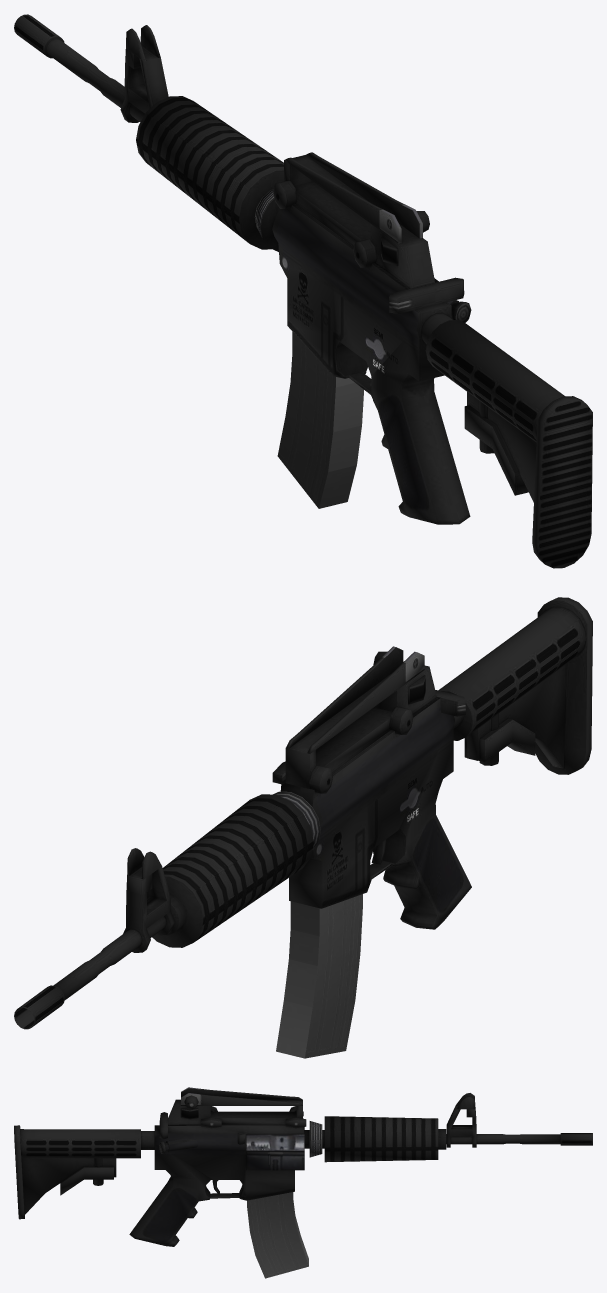
The picture shows the model from 3 angles, top to bottom: view 1: azimuth 30°, elevation 25°; view 2: azimuth 150°, elevation 25°; view 3: azimuth 270°, elevation 25°; orthographic projection. The views are drawn at different scales.
Visible parts, largest first — view 1: w_m4; view 2: w_m4; view 3: w_m4.
Boxes of the visible parts, x1,y1,x2,y2 form: w_m4: (14, 14, 592, 568); w_m4: (14, 597, 592, 1058); w_m4: (14, 1087, 592, 1278).
Bounding box in the file's own units: 0.0729 × 0.295 × 0.8417.
Materials: 2 (2 with a texture image).
